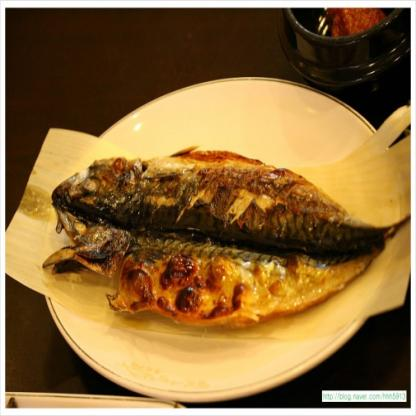Peixe: (29, 148, 416, 332)
